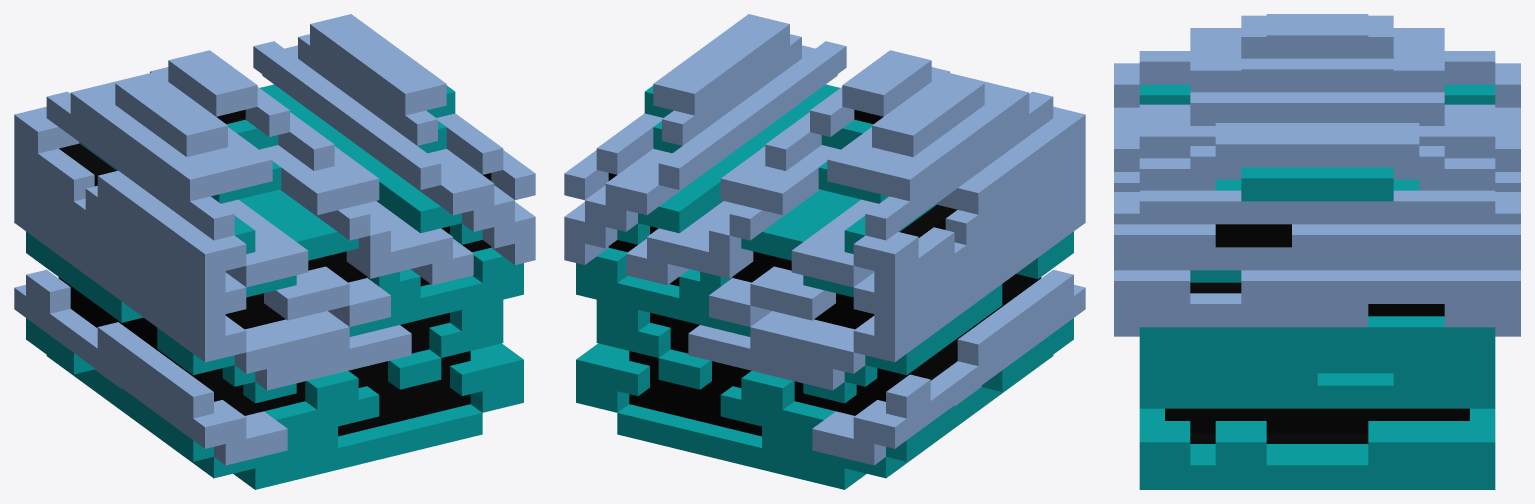
The model's file is br-m-rock2-aqua.fbx.
3 views of the same model, side by side, from view 1: azimuth 30°, elevation 25°; view 2: azimuth 150°, elevation 25°; view 3: azimuth 270°, elevation 25° (orthographic). The views are drawn at different scales.
Visible parts, largest first — view 1: rock2_aqua4; view 2: rock2_aqua4; view 3: rock2_aqua4.
Boxes of the visible parts, x1,y1,x2,y2 form: rock2_aqua4: (14,14,535,489); rock2_aqua4: (564,14,1085,489); rock2_aqua4: (1114,14,1520,489).
Bounding box in the file's own units: 1 × 1 × 1.
